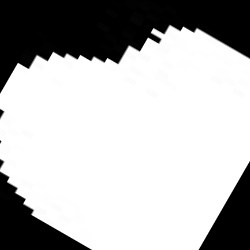spot: (1, 25, 248, 248)
